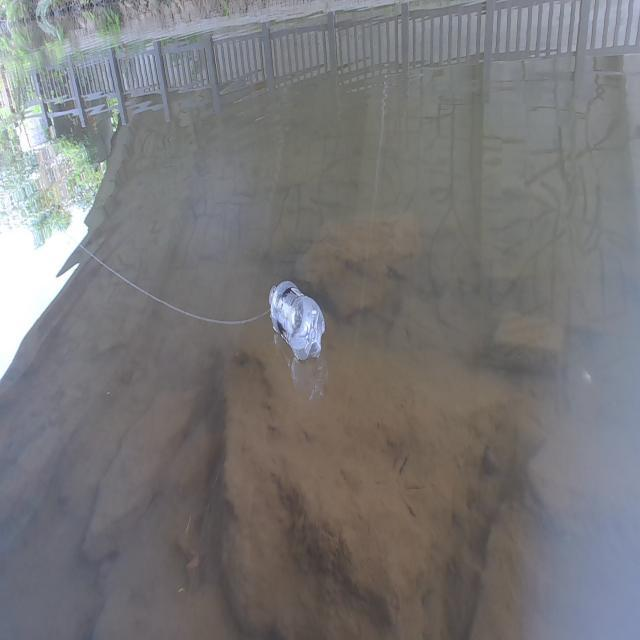bottle: (253, 244, 343, 382)
